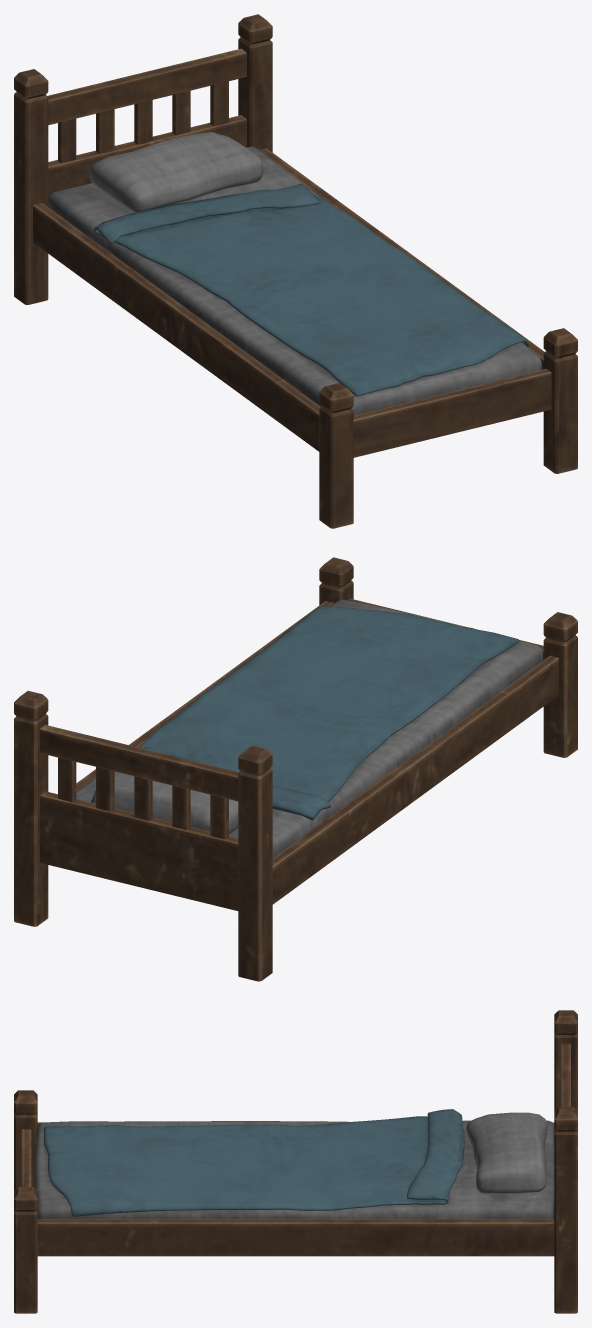
Rendered from old-bed-210be8.glb.
3 views of the same model, one above another, from view 1: azimuth 30°, elevation 25°; view 2: azimuth 150°, elevation 25°; view 3: azimuth 270°, elevation 25° (orthographic). The views are drawn at different scales.
Parts seen in each view (by area): view 1: PropMesh; view 2: PropMesh; view 3: PropMesh.
Part boxes in pixels (x1,y1,x2,y2): PropMesh: (14, 14, 577, 528); PropMesh: (14, 557, 577, 981); PropMesh: (14, 1010, 577, 1313).
Bounding box in the file's own units: 0.8958 × 0.7768 × 2.
Materials: 1 (1 with a texture image).
